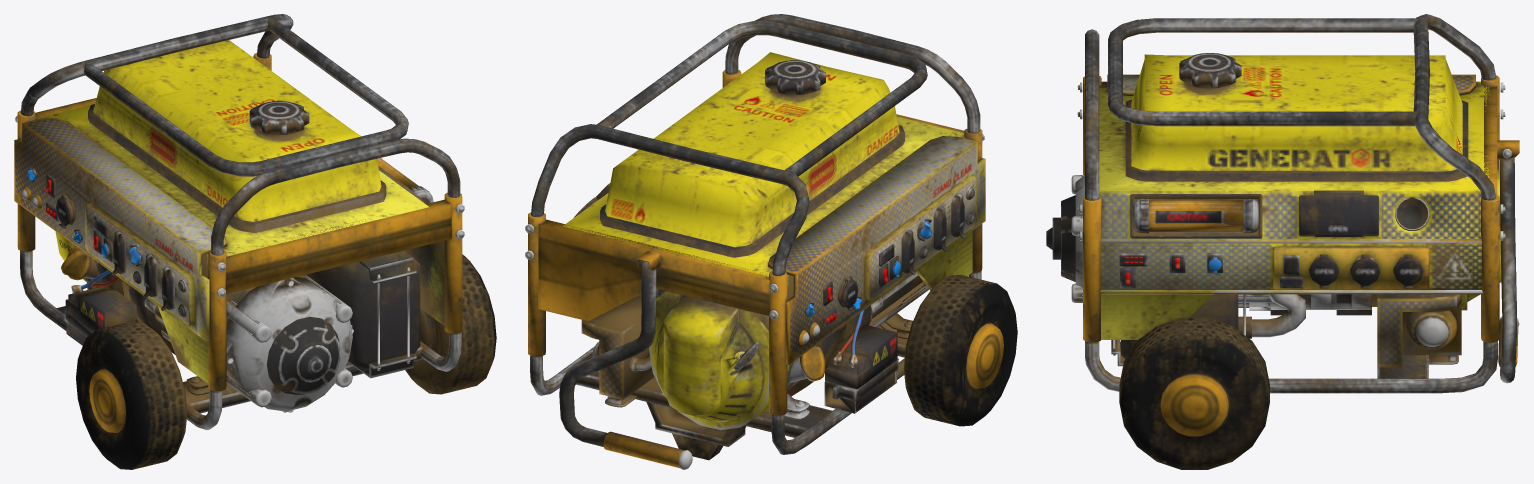
File: Generator.fbx
3 renders of one model, left to right at view 1: azimuth 30°, elevation 25°; view 2: azimuth 150°, elevation 25°; view 3: azimuth 270°, elevation 25°, orthographic. The views are drawn at different scales.
Visible parts, largest first — view 1: Object_2.001, Object_3.001, Object_4.001; view 2: Object_2.001, Object_3.001, Object_4.001; view 3: Object_2.001, Object_3.001, Object_4.001.
Boxes of the visible parts, <box> form: Object_2.001: <box>14,14,496,469</box>; Object_3.001: <box>14,53,462,413</box>; Object_4.001: <box>89,281,429,432</box>; Object_2.001: <box>525,14,1017,469</box>; Object_3.001: <box>527,60,985,462</box>; Object_4.001: <box>661,292,1003,387</box>; Object_2.001: <box>1046,14,1519,469</box>; Object_3.001: <box>1071,53,1505,378</box>; Object_4.001: <box>1162,378,1227,436</box>.
Bounding box in the file's own units: 2193 × 1775 × 2375.
